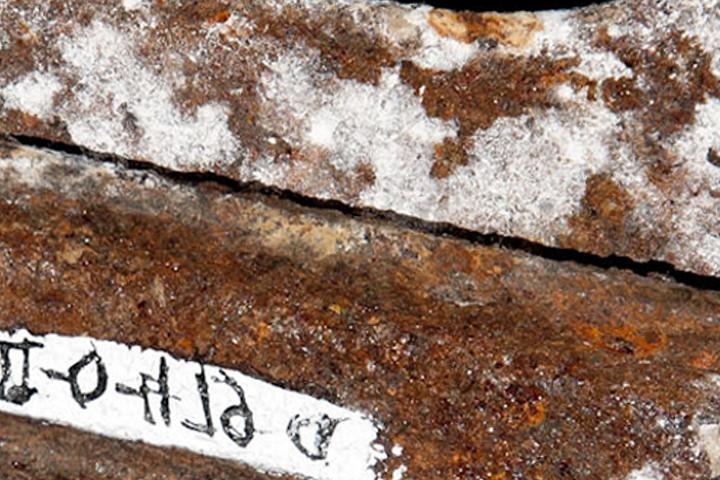rust: (414, 17, 714, 473), (3, 3, 412, 328), (276, 340, 403, 409)
